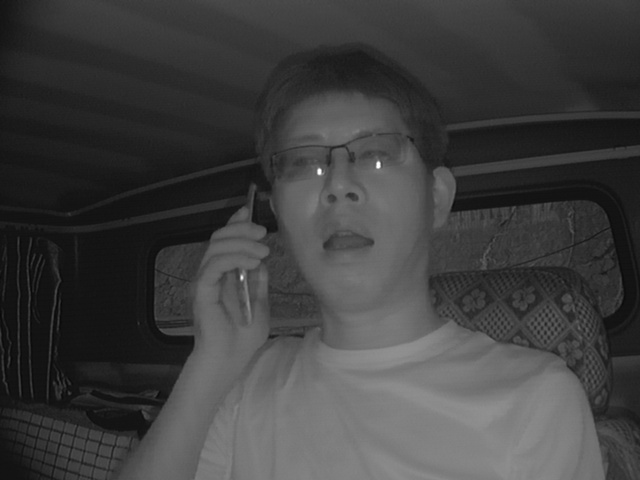hand: (192, 209, 278, 359)
